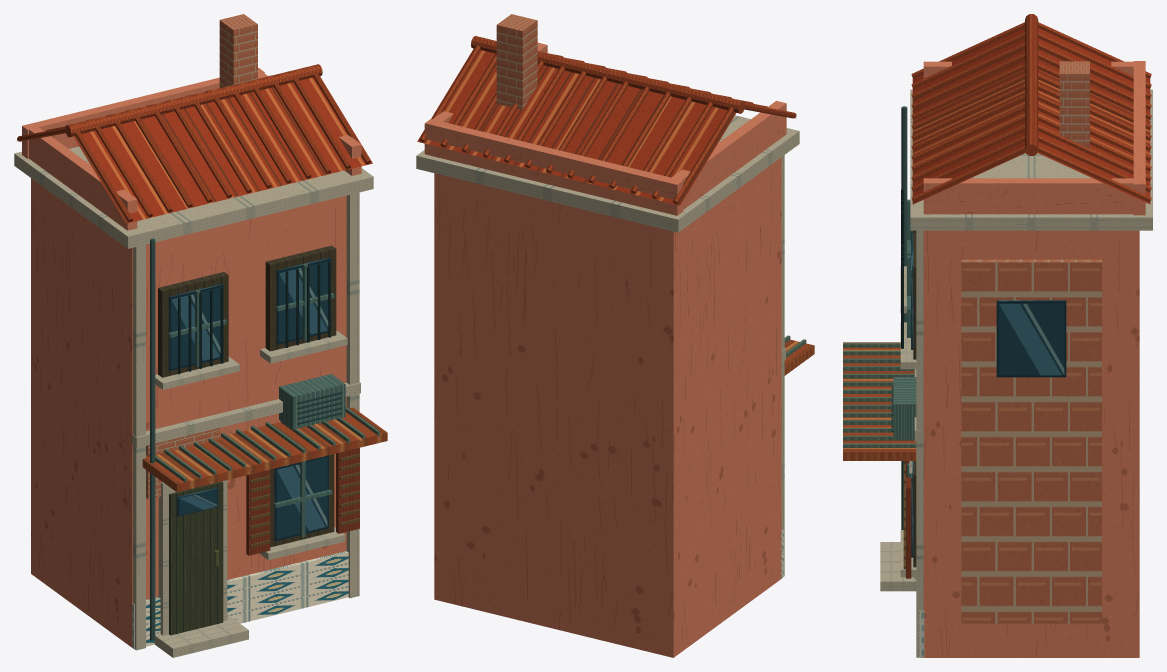
File: townhouse-coral.glb
3 renders of one model, left to right at view 1: azimuth 30°, elevation 25°; view 2: azimuth 150°, elevation 25°; view 3: azimuth 270°, elevation 25°, orthographic. The views are drawn at different scales.
Visible parts, largest first — view 1: townhouse-coral; view 2: townhouse-coral; view 3: townhouse-coral.
Boxes of the visible parts, x1=… form: townhouse-coral: x1=14, y1=14, x2=387, y2=657; townhouse-coral: x1=416, y1=14, x2=814, y2=657; townhouse-coral: x1=843, y1=14, x2=1152, y2=657.
Bounding box in the file's own units: 2.58 × 5.2 × 2.58.
Materials: 1 (1 with a texture image).
